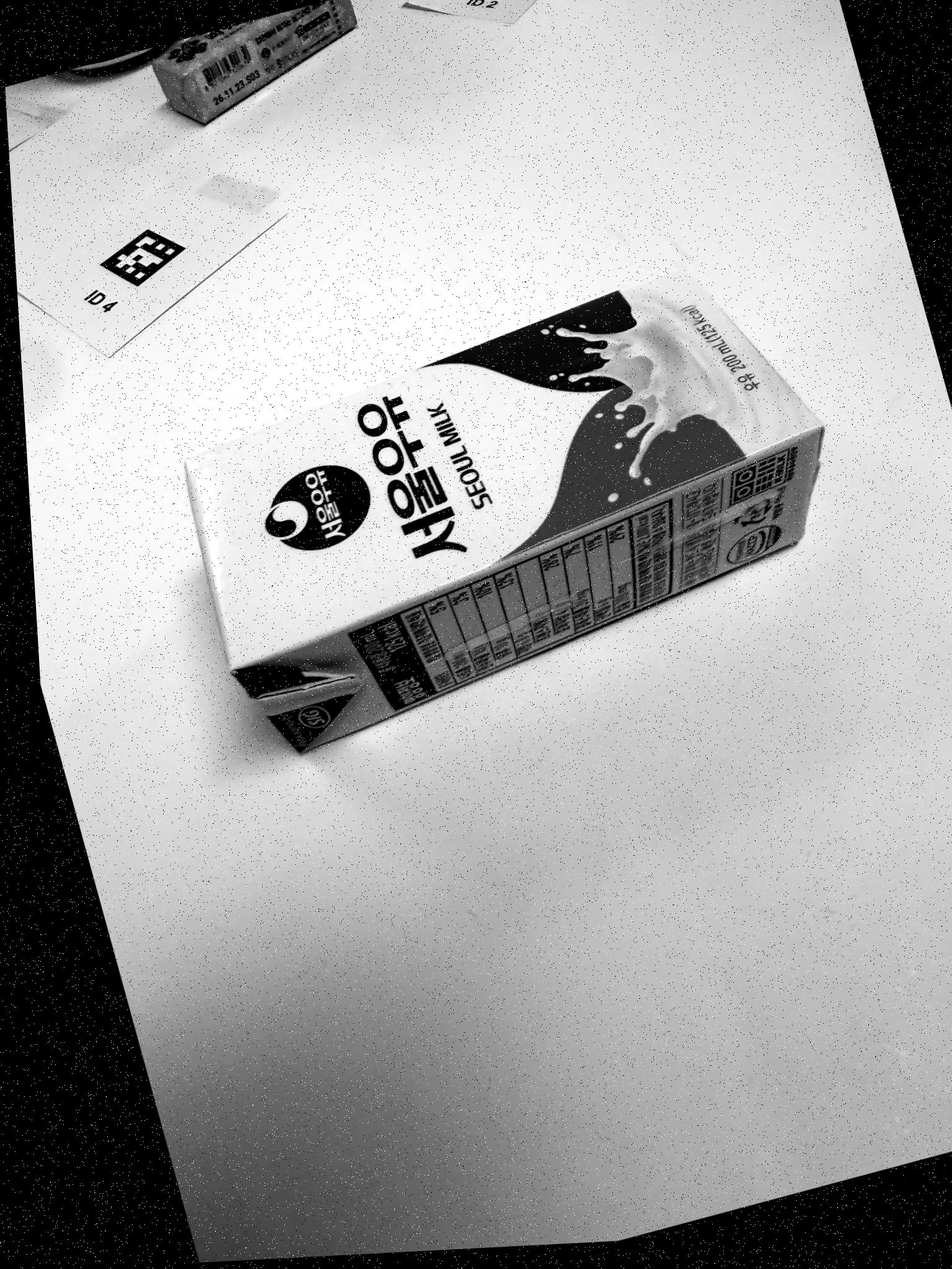milk_green: (183, 265, 823, 757)
